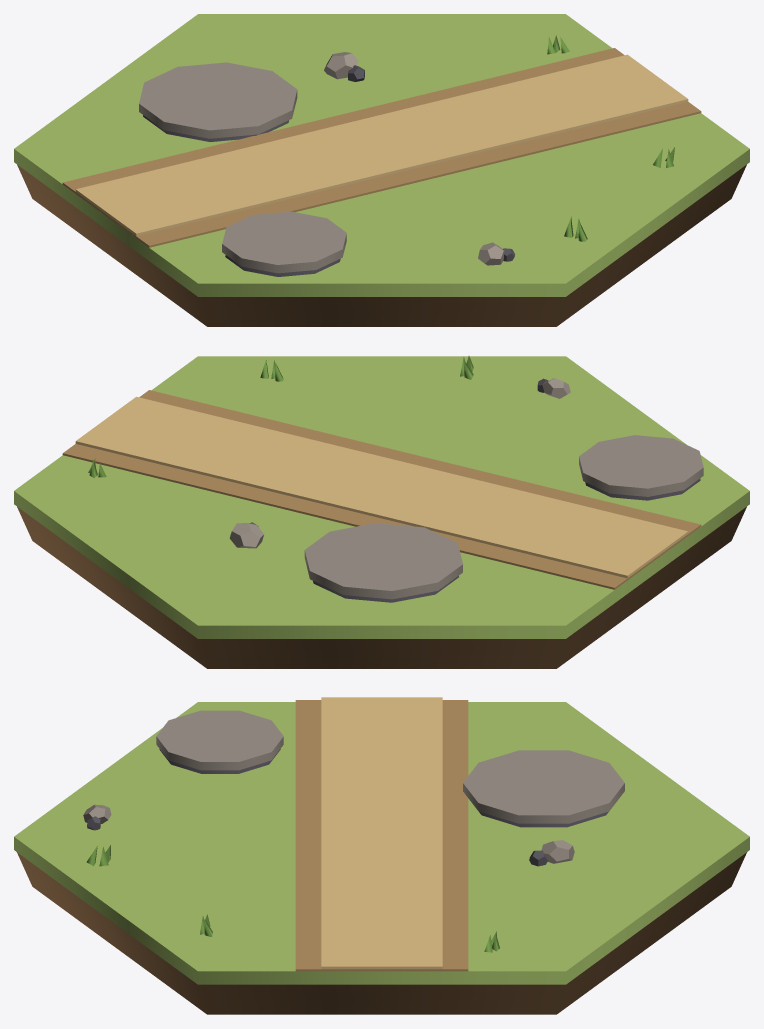
File: tile_empty.glb
The picture shows the model from 3 angles, top to bottom: view 1: azimuth 30°, elevation 25°; view 2: azimuth 150°, elevation 25°; view 3: azimuth 270°, elevation 25°; orthographic projection.
Parts seen in each view (by area): view 1: ground, road, ground_soil, tower_slot_1_plate, tower_slot_2_plate, road_surface_hub, road_verge_hub, deco_stone_3_a; view 2: ground, road, ground_soil, tower_slot_1_plate, tower_slot_2_plate, road_surface_hub, deco_stone_3_a, road_verge_hub, tower_slot_1_socket; view 3: ground, road, ground_soil, tower_slot_1_plate, tower_slot_2_plate, road_surface_hub, deco_stone_3_a, tower_slot_1_socket.
Part boxes in pixels (box(x1,y1,x2,y2)): ground: box(14, 14, 749, 296); road: box(62, 48, 701, 247); ground_soil: box(17, 164, 746, 326); tower_slot_1_plate: box(139, 62, 297, 138); tower_slot_2_plate: box(222, 211, 346, 273); road_surface_hub: box(322, 118, 441, 168); road_verge_hub: box(307, 114, 465, 182); deco_stone_3_a: box(324, 52, 358, 79); ground: box(14, 356, 749, 638); road: box(62, 390, 701, 589); ground_soil: box(17, 507, 746, 668); tower_slot_1_plate: box(304, 523, 462, 599); tower_slot_2_plate: box(579, 435, 703, 496); road_surface_hub: box(322, 461, 441, 509); deco_stone_3_a: box(229, 523, 264, 548); road_verge_hub: box(333, 457, 457, 524); tower_slot_1_socket: box(313, 576, 458, 602); ground: box(14, 702, 749, 984); road: box(295, 697, 468, 971); ground_soil: box(17, 852, 746, 1014); tower_slot_1_plate: box(463, 750, 624, 823); tower_slot_2_plate: box(156, 710, 283, 770); road_surface_hub: box(321, 808, 442, 857); deco_stone_3_a: box(541, 840, 574, 863); tower_slot_1_socket: box(479, 811, 608, 827).
Bounding box in the file's own units: 1.73 × 0.2067 × 2.
